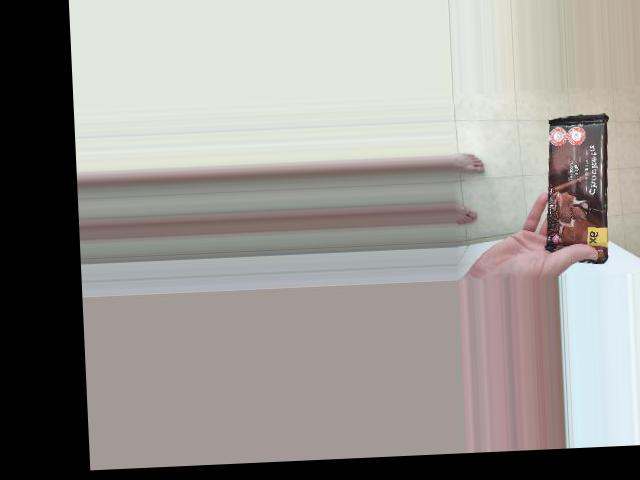chocolate: (522, 94, 640, 191)
